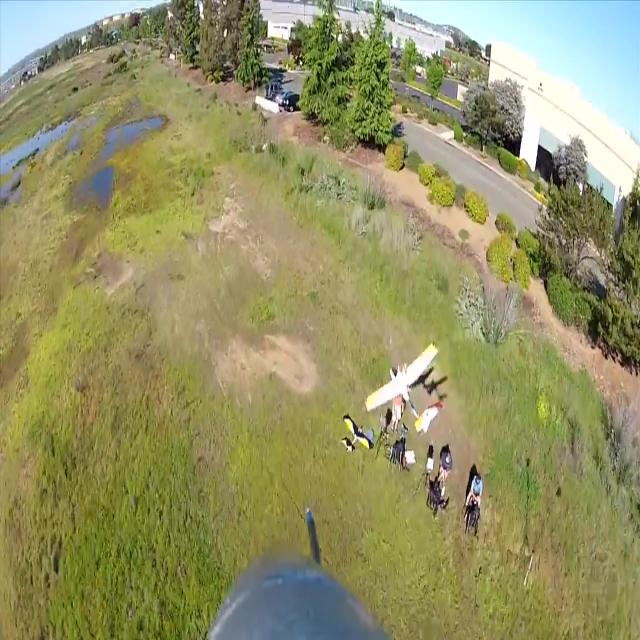iha: (340, 412, 375, 453), (400, 374, 404, 402)
